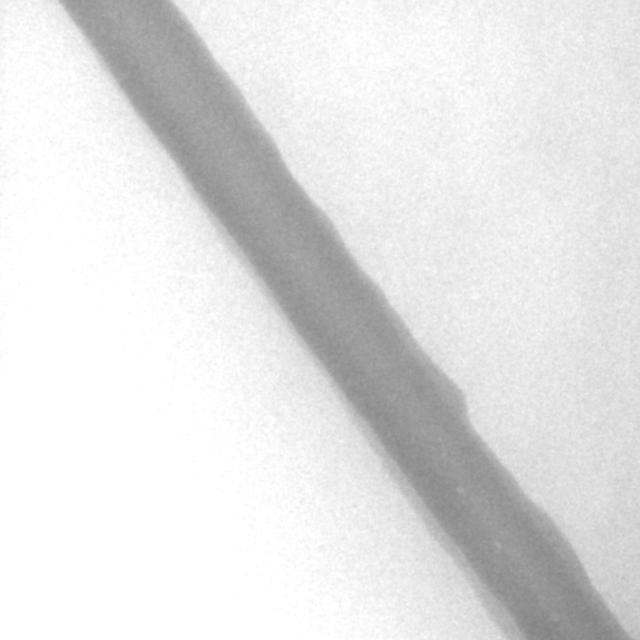air hole: (491, 537, 500, 551), (455, 484, 465, 496)
